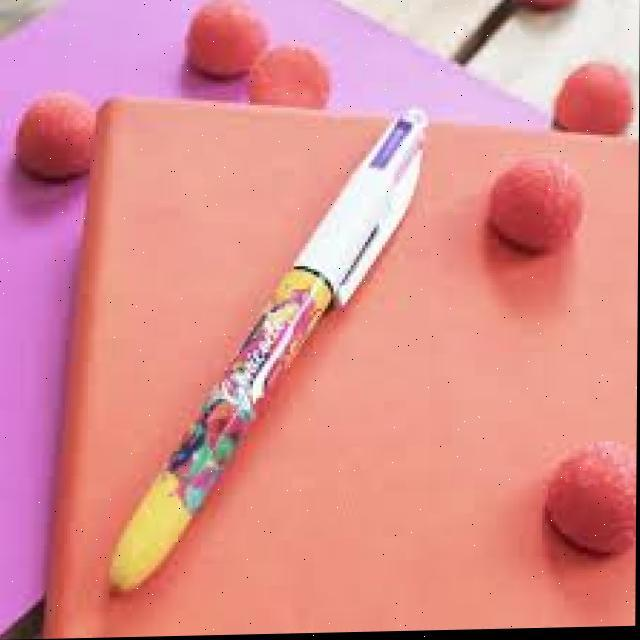pen: (109, 108, 436, 600)
